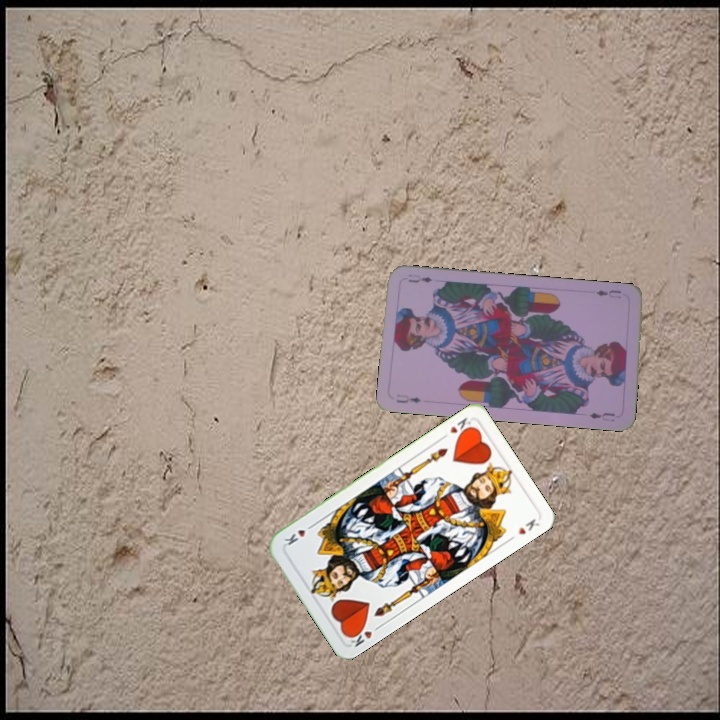EU: (592, 286, 624, 301), (392, 392, 424, 406)
HK: (343, 621, 384, 649), (437, 413, 473, 442)
